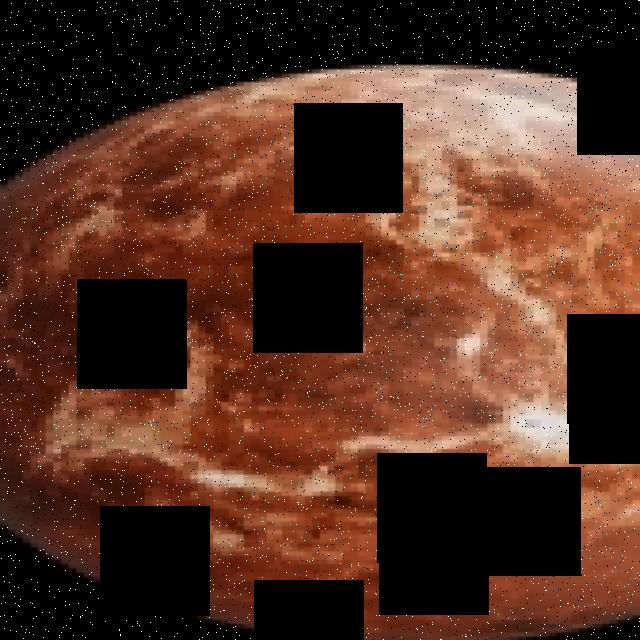Venus: (0, 59, 640, 640)
